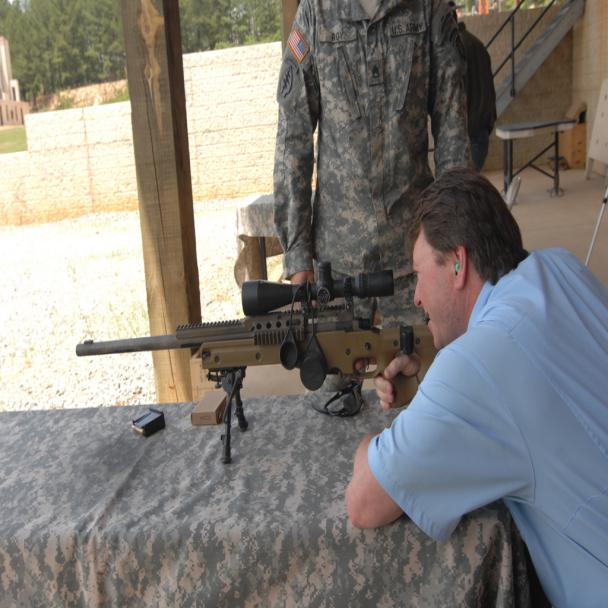Gun: (70, 270, 415, 383)
Hand: (374, 352, 427, 420)
